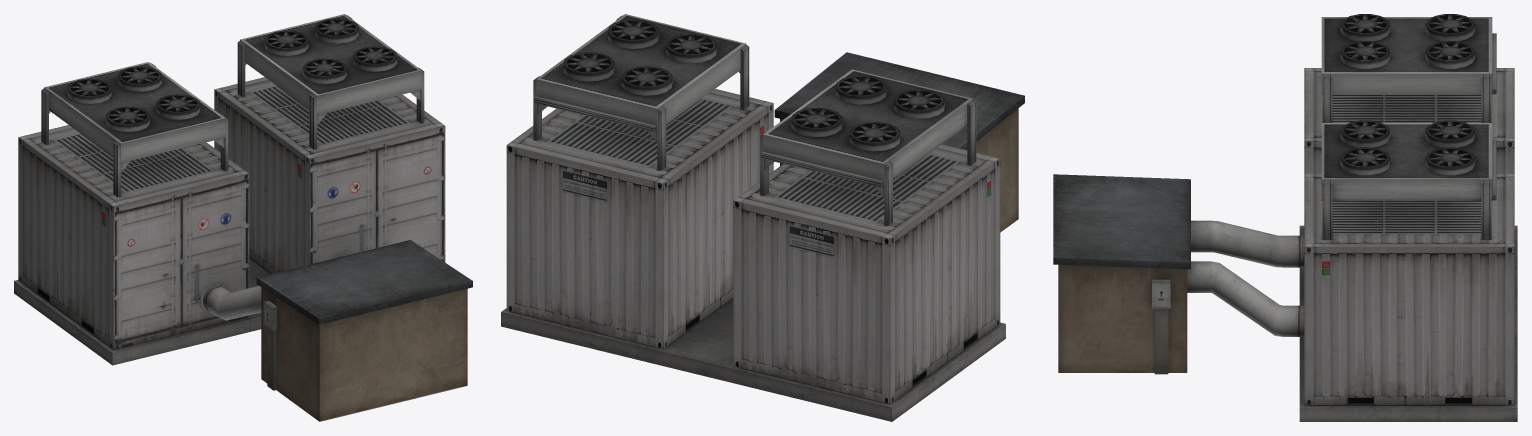
The picture shows the model from 3 angles, left to right: view 1: azimuth 30°, elevation 25°; view 2: azimuth 150°, elevation 25°; view 3: azimuth 270°, elevation 25°; orthographic projection. The views are drawn at different scales.
Visible parts, largest first — view 1: CoolingUnits01.001; view 2: CoolingUnits01.001; view 3: CoolingUnits01.001.
Part boxes in pixels (x1,y1,x2,y2): CoolingUnits01.001: (14, 14, 472, 421); CoolingUnits01.001: (501, 14, 1024, 421); CoolingUnits01.001: (1053, 14, 1517, 421).
Size of the model in its own units: 2.69 by 1.65 by 2.89.
1 material, 1 textured.
